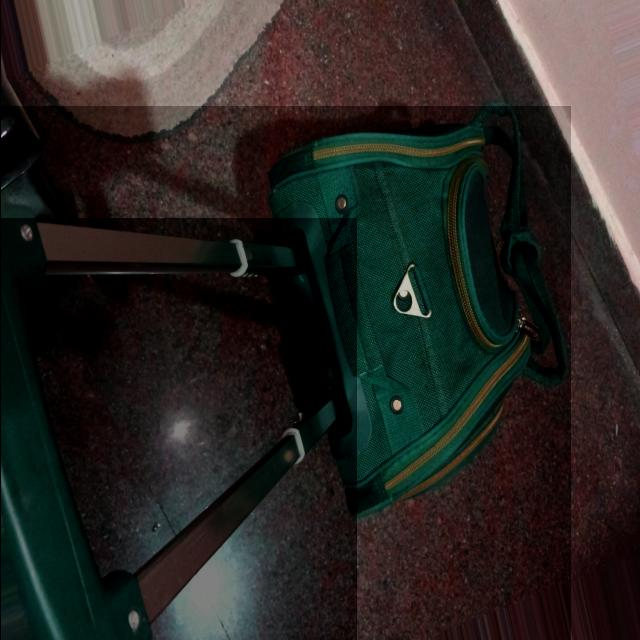Bag: (2, 103, 578, 637)
Handle: (0, 195, 352, 640)
